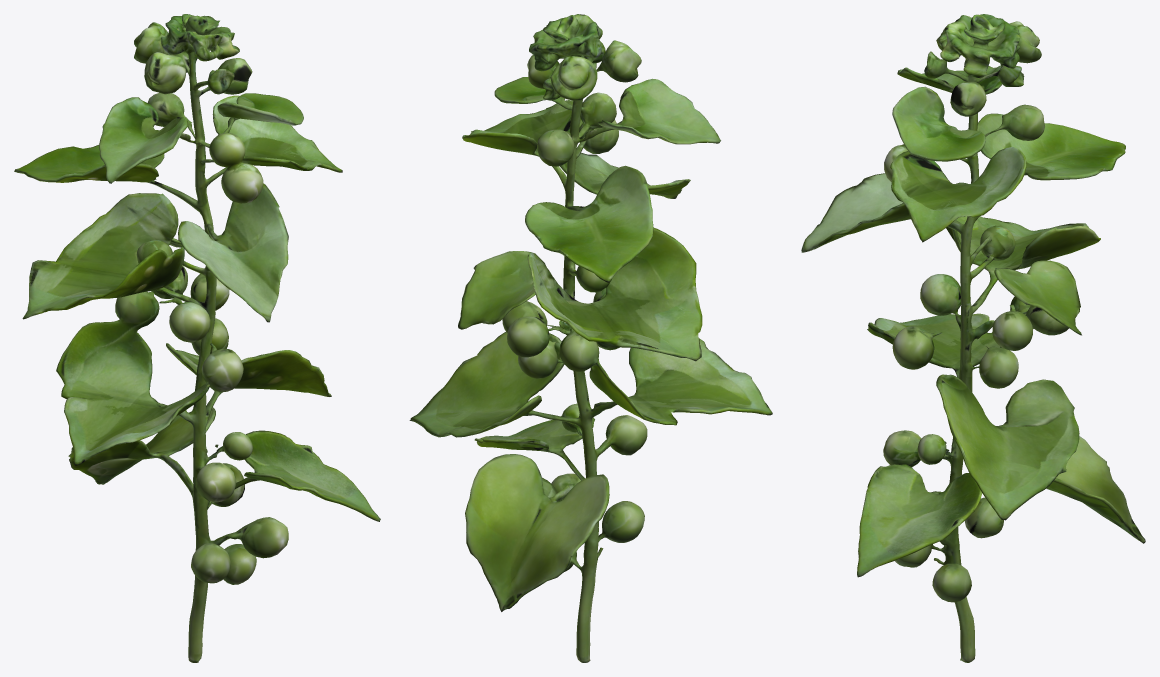
File: peas.glb
3 views of the same model, side by side, from view 1: azimuth 30°, elevation 25°; view 2: azimuth 150°, elevation 25°; view 3: azimuth 270°, elevation 25° (orthographic).
Bounding box in the file's own units: 1 × 1.99 × 0.9556.
1 material, 1 textured.
